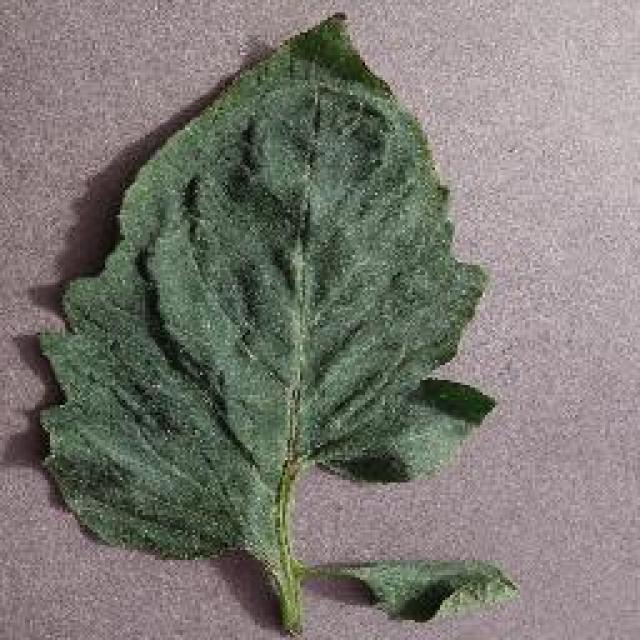Tomato___Target_Spot: (40, 15, 512, 630)
